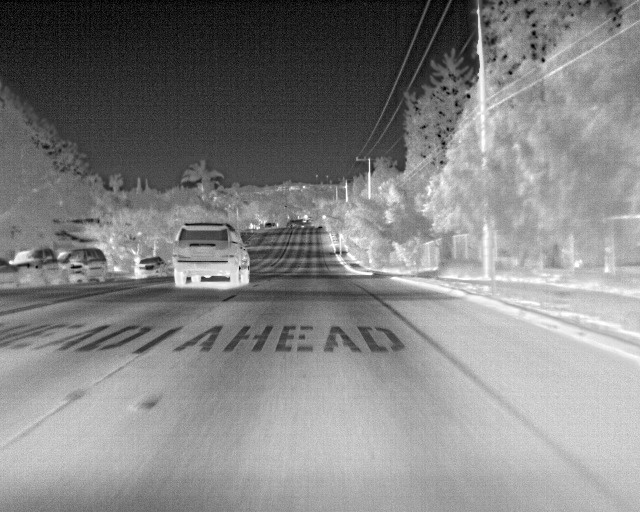vehicle: (172, 220, 253, 292), (61, 244, 111, 290), (13, 247, 60, 293)
